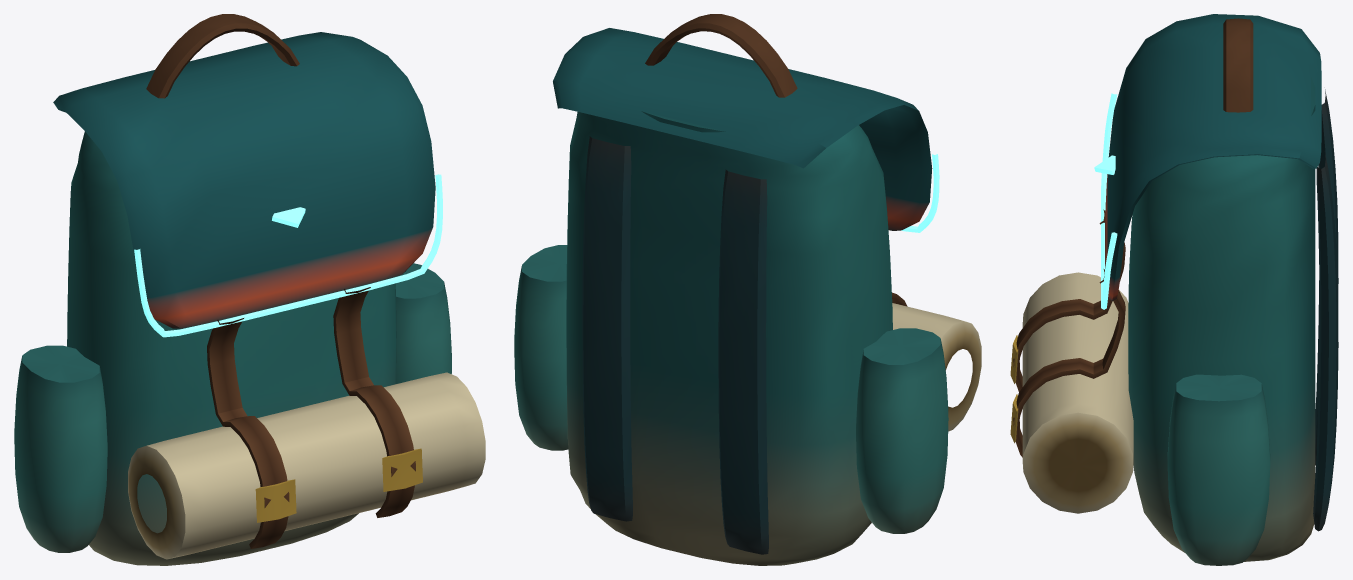
File: backpack.glb
3 renders of one model, left to right at view 1: azimuth 30°, elevation 25°; view 2: azimuth 150°, elevation 25°; view 3: azimuth 270°, elevation 25°, orthographic. The views are drawn at different scales.
Visible parts, largest first — view 1: Backpack, CarryHandle; view 2: Backpack, CarryHandle; view 3: Backpack, CarryHandle.
Boxes of the visible parts, bbox=[...] form: Backpack: bbox=[14, 32, 485, 565]; CarryHandle: bbox=[146, 14, 299, 98]; Backpack: bbox=[514, 28, 981, 565]; CarryHandle: bbox=[645, 14, 797, 97]; Backpack: bbox=[1010, 14, 1338, 565]; CarryHandle: bbox=[1223, 18, 1253, 112].
Bounding box in the file's own units: 0.4741 × 0.5534 × 0.338.
